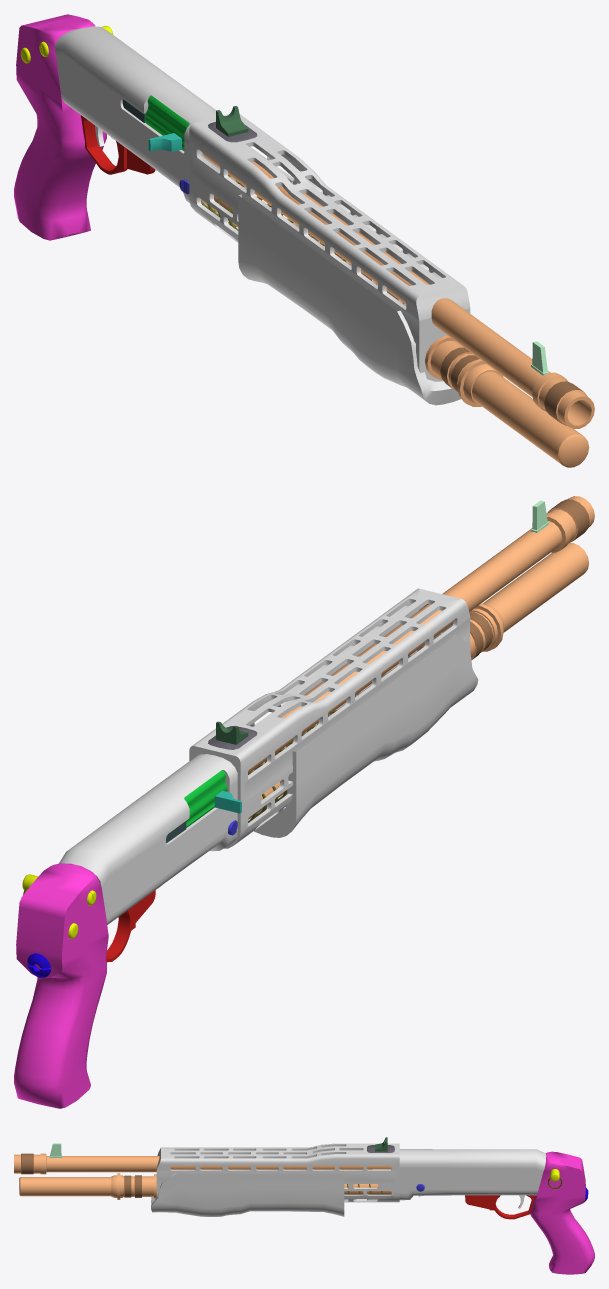
Rendered from Spas.fbx.
The picture shows the model from 3 angles, top to bottom: view 1: azimuth 30°, elevation 25°; view 2: azimuth 150°, elevation 25°; view 3: azimuth 270°, elevation 25°; orthographic projection. The views are drawn at different scales.
Visible parts, largest first — view 1: Body, Body.001, pump, Bolt; view 2: Body.001, Body, pump, Bolt; view 3: Body, Body.001, pump.
Boxes of the visible parts, left/top/right/bottom form: Body: left=55, top=26, right=470, bottom=381; Body.001: left=14, top=14, right=594, bottom=467; pump: left=238, top=182, right=460, bottom=405; Bolt: left=122, top=95, right=189, bottom=151; Body.001: left=14, top=496, right=594, bottom=1108; Body: left=59, top=588, right=470, bottom=924; pump: left=254, top=635, right=478, bottom=837; Bolt: left=166, top=770, right=241, bottom=842; Body: left=156, top=1143, right=546, bottom=1202; Body.001: left=14, top=1137, right=594, bottom=1274; pump: left=151, top=1173, right=344, bottom=1216.
Size of the model in its own units: 7.36 by 19.54 by 79.71.
